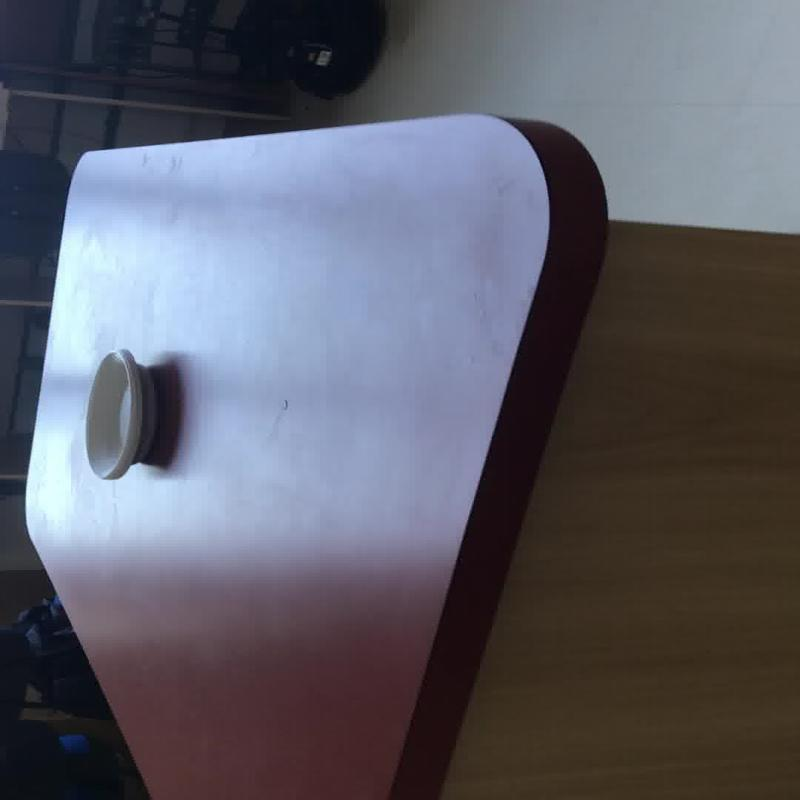plate: (82, 348, 158, 479), (83, 348, 144, 479)
